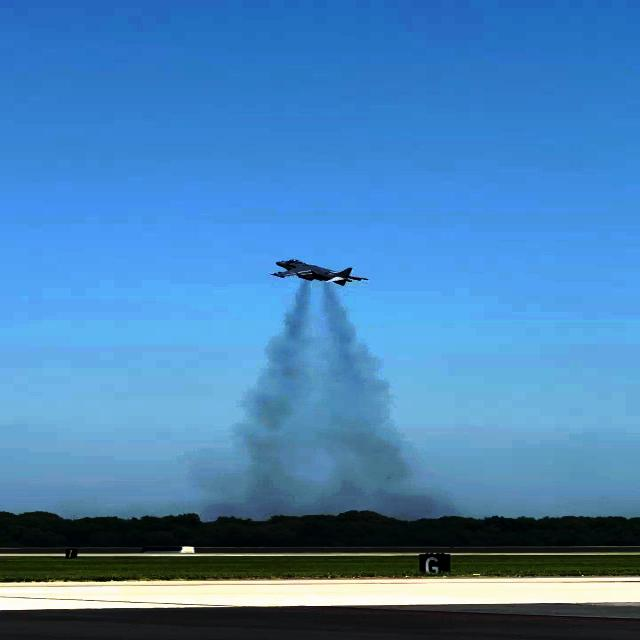Aircraft: (273, 260, 370, 286)
